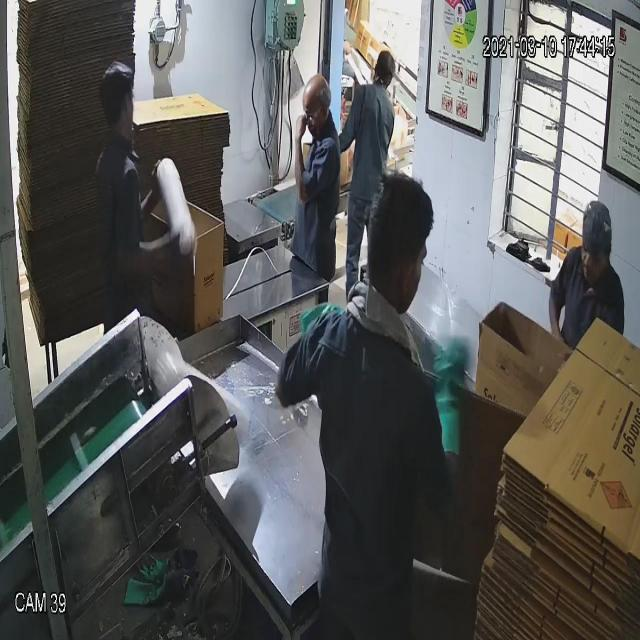No_Gloves: (24, 63, 302, 245)
